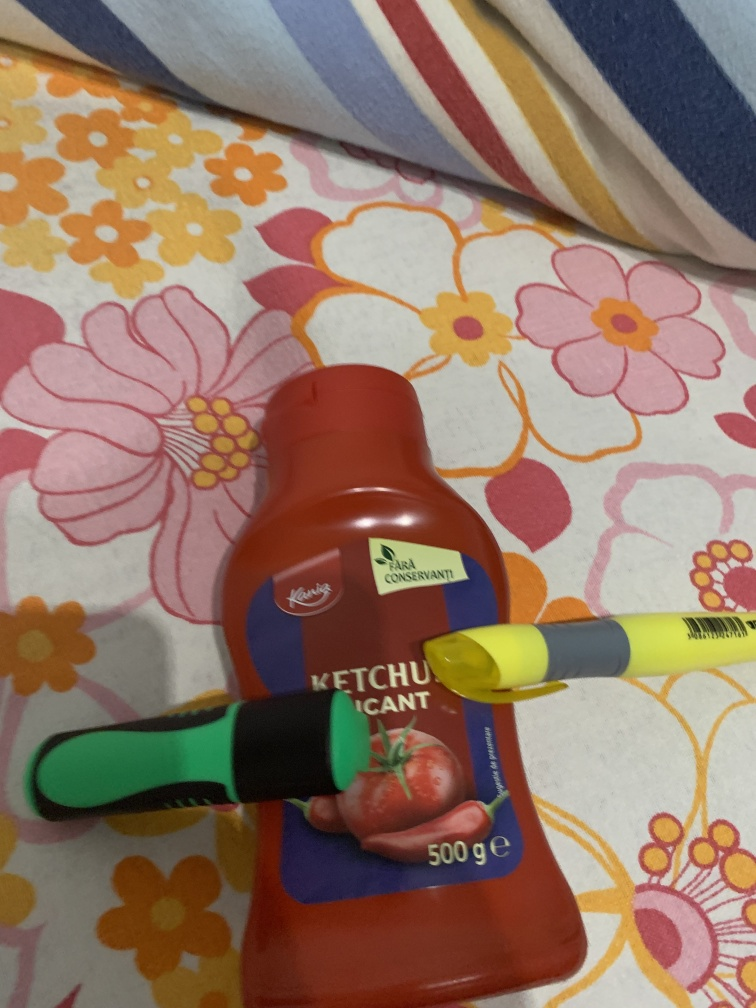ketchup: (220, 360, 608, 1005)
